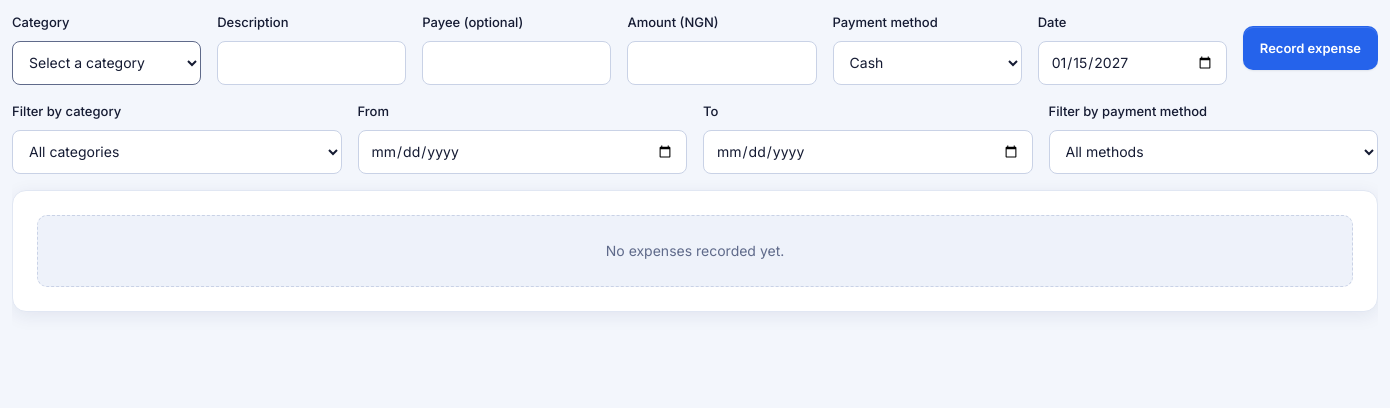
RecordExpenseTab › surfaces a real backend validation error
Select "Utilities" in the dropdown labelled "Category" at (107, 63), box [12,41,201,85]
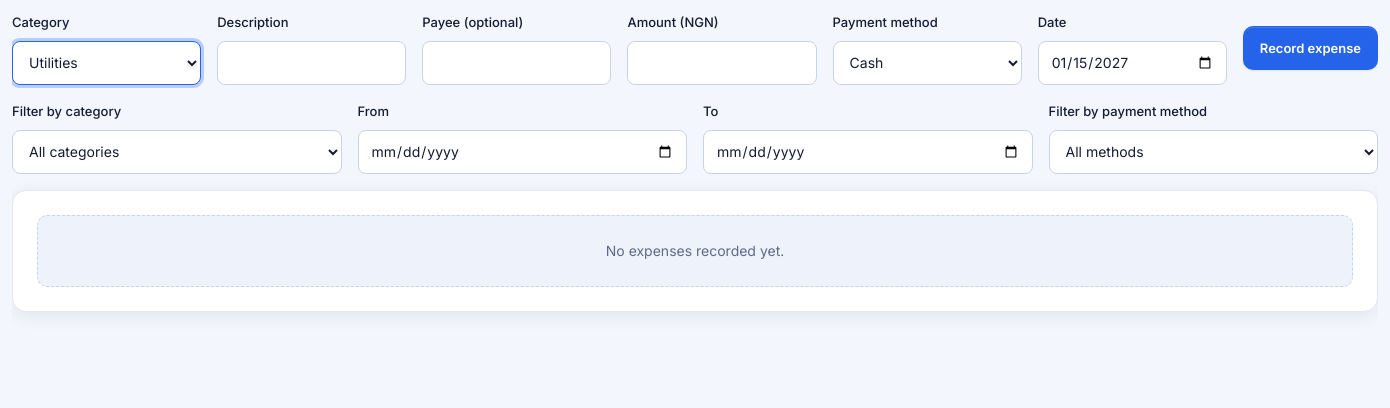
Type "Diesel" into the field labelled "Description".
click(312, 63); type("Diesel")  # box [217,41,406,85]
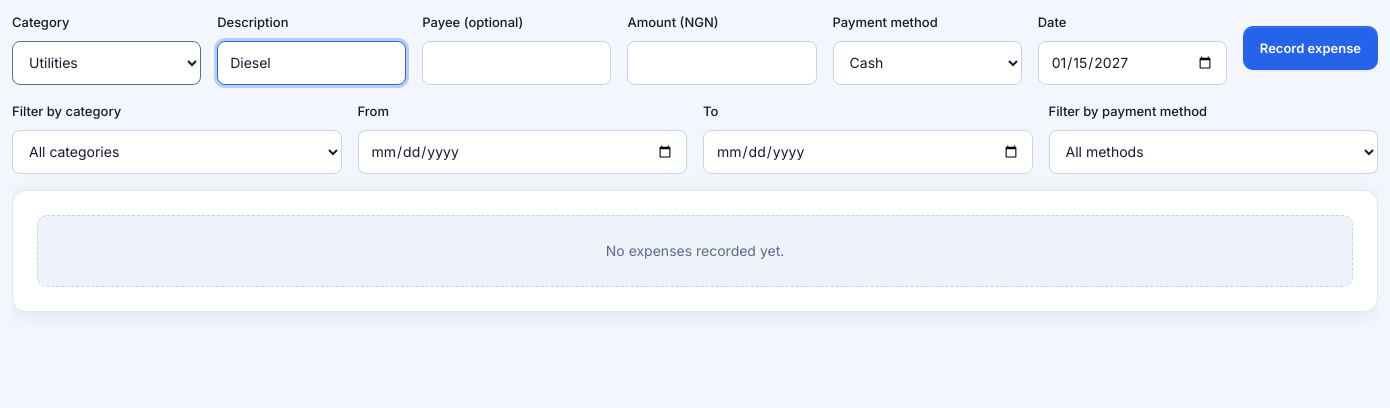
Type "150.00" into the number field labelled "Amount (NGN)".
click(722, 63); type("150.00")  # box [627,41,816,85]
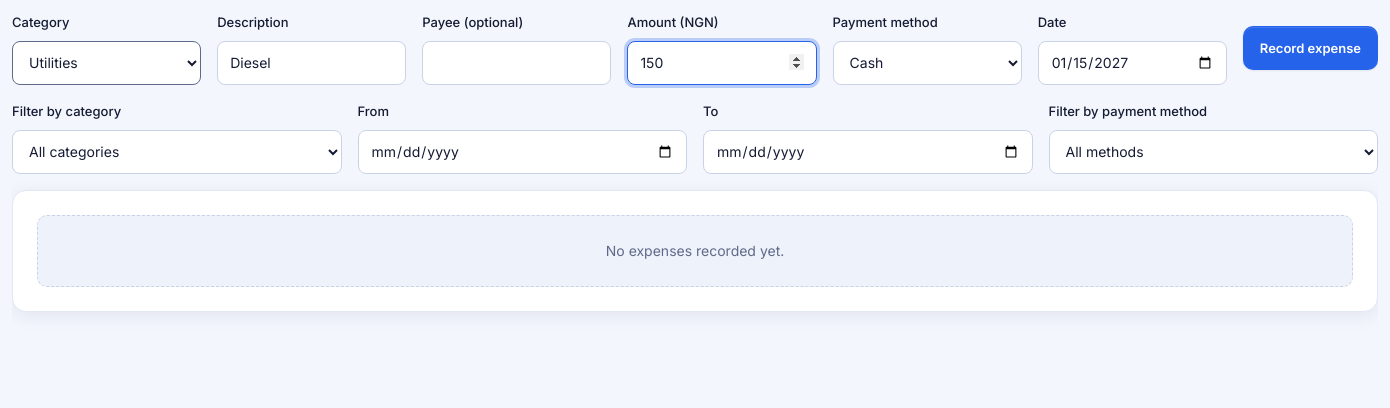
Click the button "Record expense".
click(1310, 48)  # box [1243,26,1378,70]
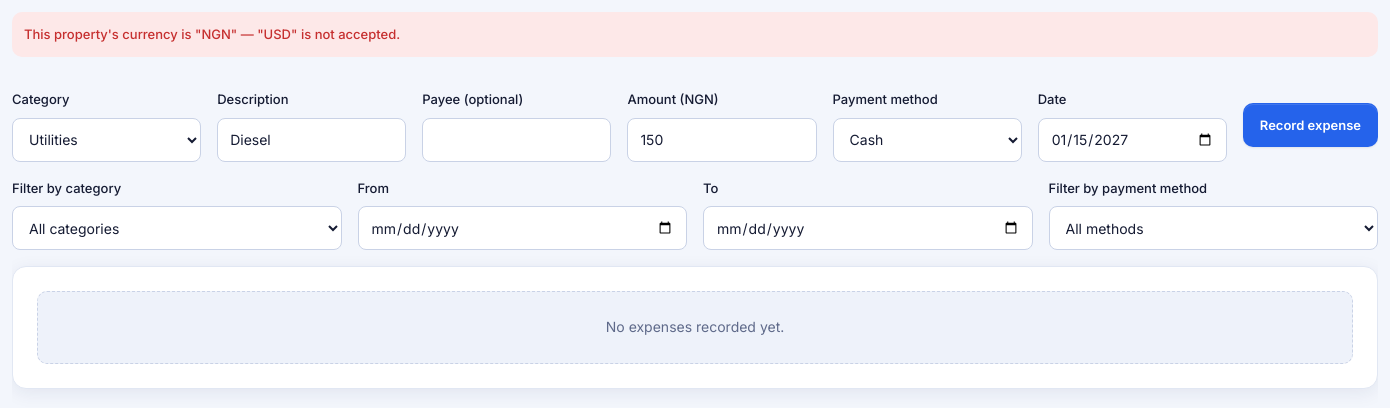
Check: the message shows "is not accepted", box [24,26,400,42]
